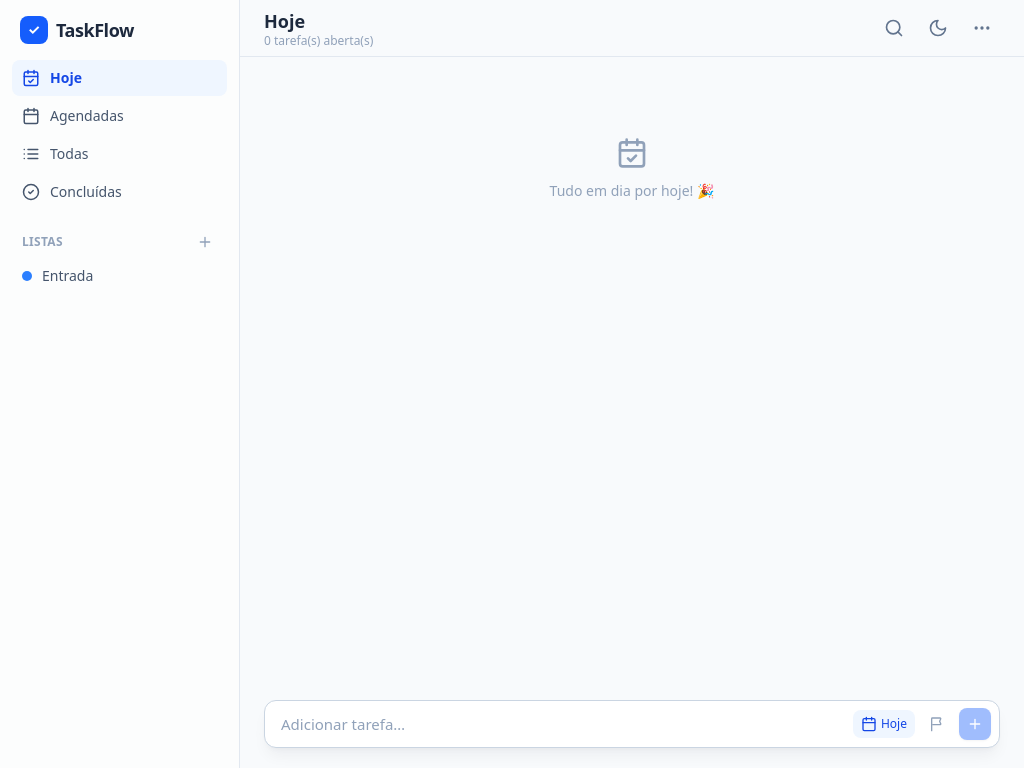
Test: App › conclui tarefa pelo checkbox e ela sai da visão Hoje
Type "Lavar louça" into the field labelled "Adicionar tarefa" at (559, 724), box top-left (273, 706), bottom-right (845, 741)
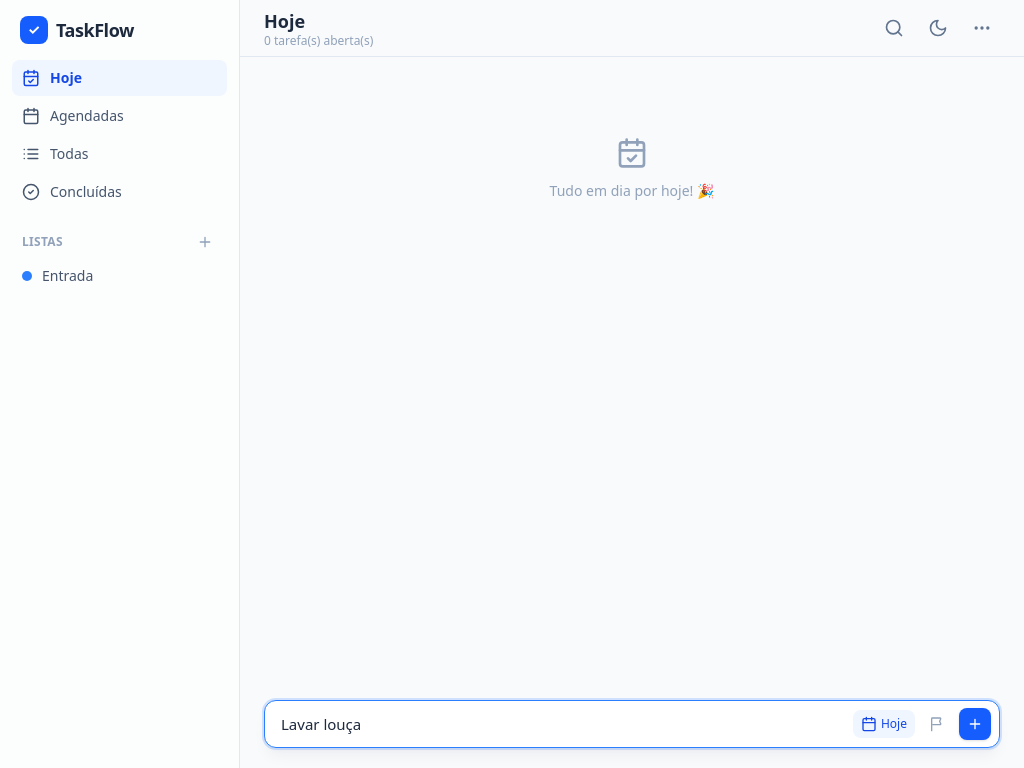
Press Enter
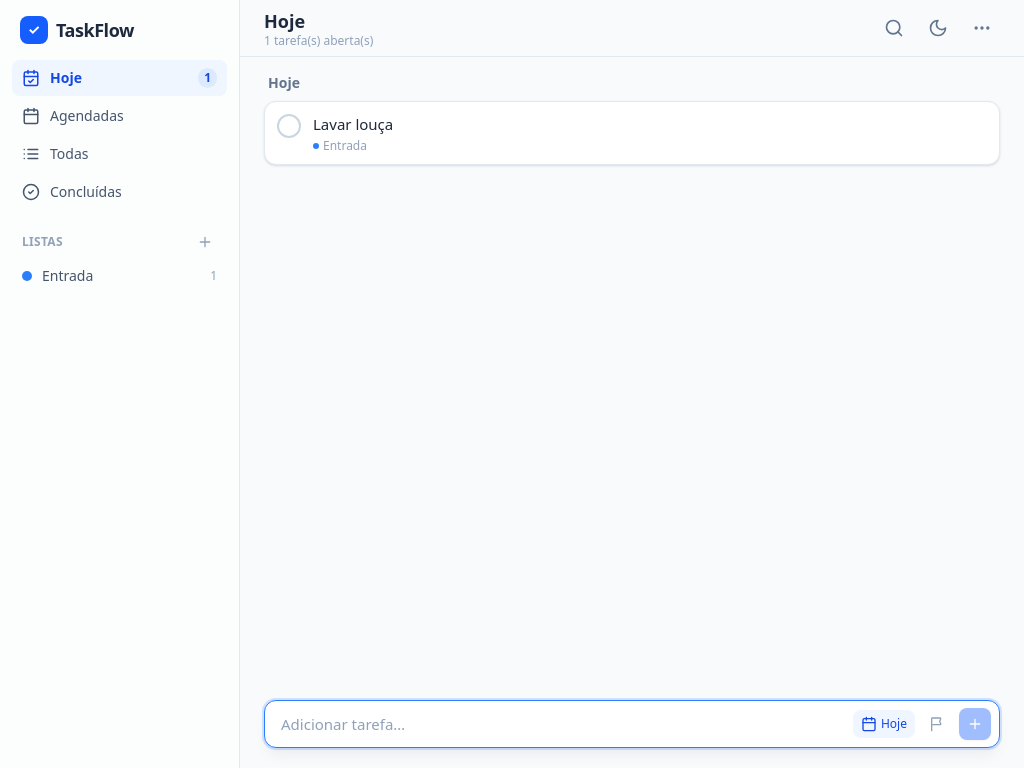
Click the checkbox named "Concluir \"Lavar louça\"" at (289, 126), box top-left (277, 114), bottom-right (301, 138)
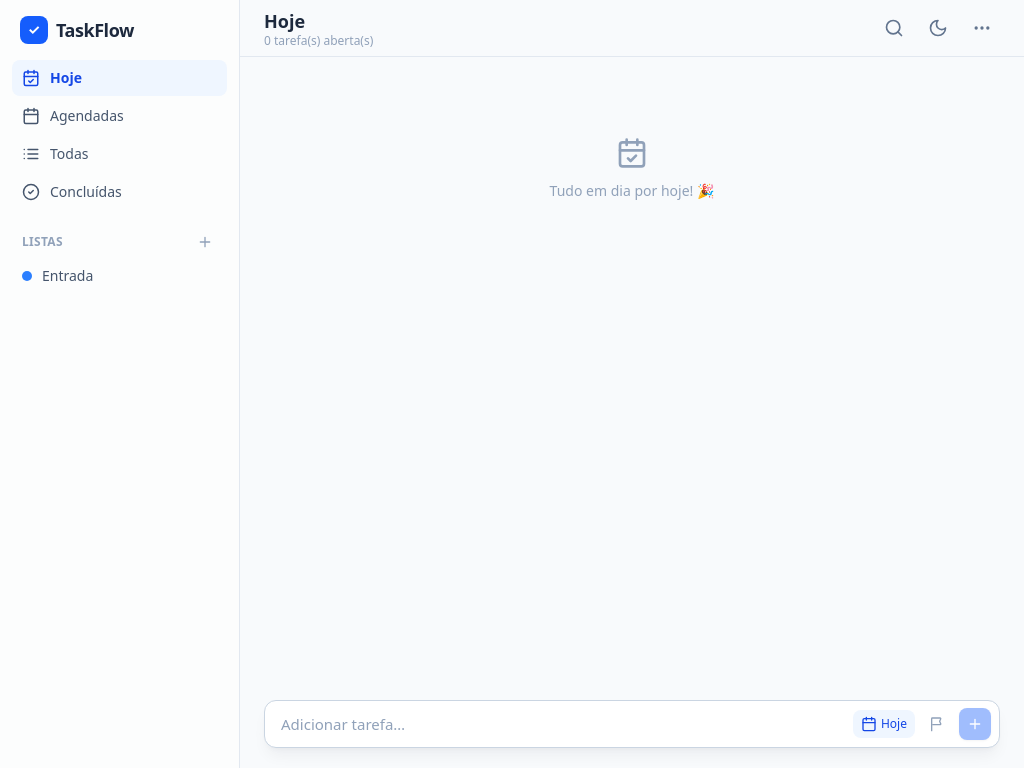
Now the button "Lavar louça" is gone
Now the text "Tudo em dia por hoje! 🎉" is shown, box top-left (550, 181), bottom-right (714, 201)
